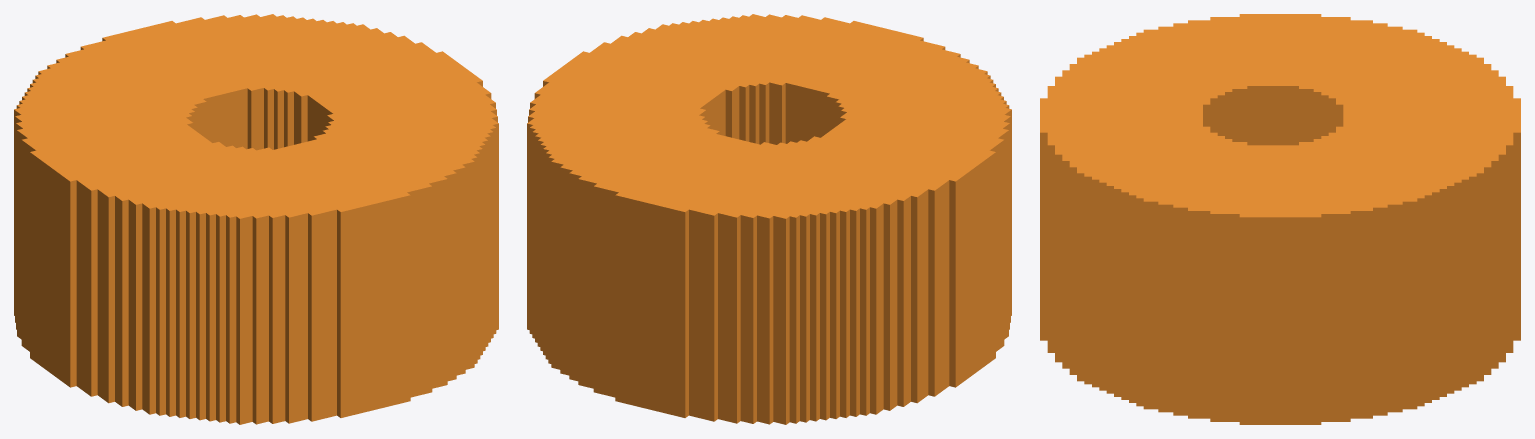
Rendered from chiffoncake.obj.
3 views of the same model, side by side, from view 1: azimuth 30°, elevation 25°; view 2: azimuth 150°, elevation 25°; view 3: azimuth 270°, elevation 25° (orthographic).
Visible parts, largest first — view 1: chiffoncake; view 2: chiffoncake; view 3: chiffoncake.
Part boxes in pixels (<box>): chiffoncake: <box>14,14,498,424</box>; chiffoncake: <box>527,14,1011,424</box>; chiffoncake: <box>1040,14,1520,424</box>.
Size of the model in its own units: 65 by 31 by 65.
Materials: 1 (1 with a texture image).
